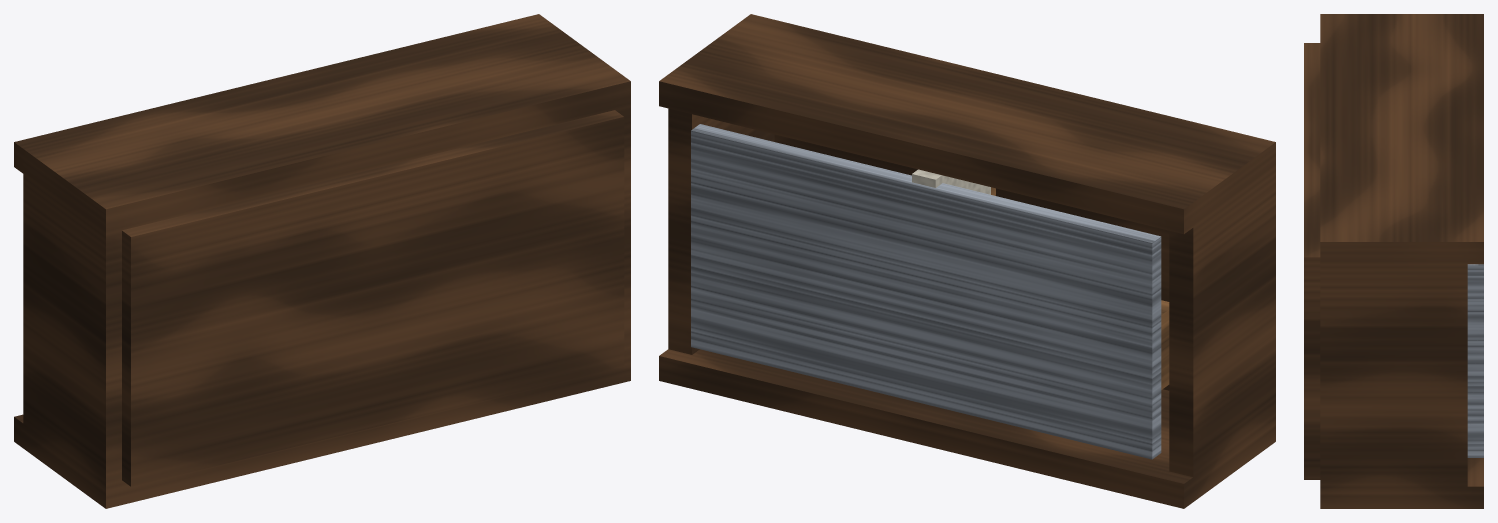
Rendered from shadow_box.fbx.
3 views of the same model, side by side, from view 1: azimuth 30°, elevation 25°; view 2: azimuth 150°, elevation 25°; view 3: azimuth 270°, elevation 25° (orthographic). The views are drawn at different scales.
Visible parts, largest first — view 1: shadow_box; view 2: shadow_box; view 3: shadow_box.
Boxes of the visible parts, x1,y1,x2,y2 form: shadow_box: (14, 14, 630, 508); shadow_box: (659, 14, 1275, 508); shadow_box: (1304, 14, 1483, 508).
Bounding box in the file's own units: 66 × 36 × 22.
